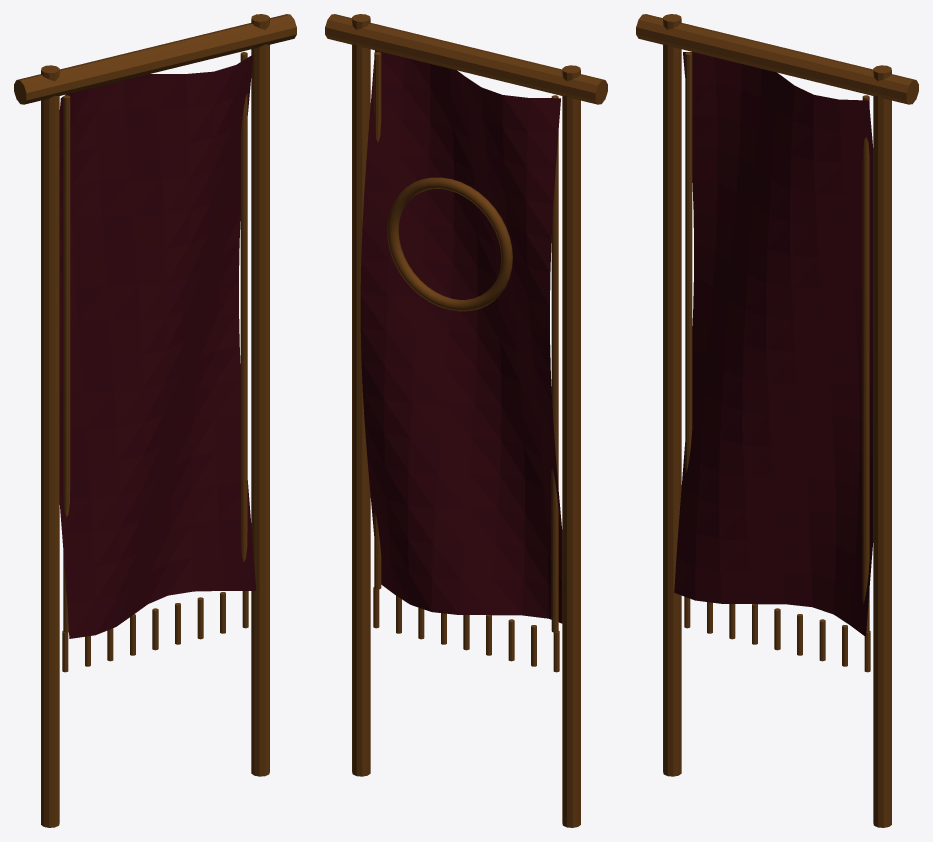
The model's file is SM_JA_PrayerBanner.fbx.
The picture shows the model from 3 angles, left to right: view 1: azimuth 30°, elevation 25°; view 2: azimuth 150°, elevation 25°; view 3: azimuth 330°, elevation 25°; orthographic projection.
Parts seen in each view (by area): view 1: SM_JA_PrayerBanner; view 2: SM_JA_PrayerBanner; view 3: SM_JA_PrayerBanner.
Boxes of the visible parts, left/top/right/bottom form: SM_JA_PrayerBanner: left=14, top=14, right=296, bottom=827; SM_JA_PrayerBanner: left=325, top=14, right=607, bottom=827; SM_JA_PrayerBanner: left=636, top=14, right=918, bottom=827.
Size of the model in its own units: 1.8 by 0.3549 by 4.8.
